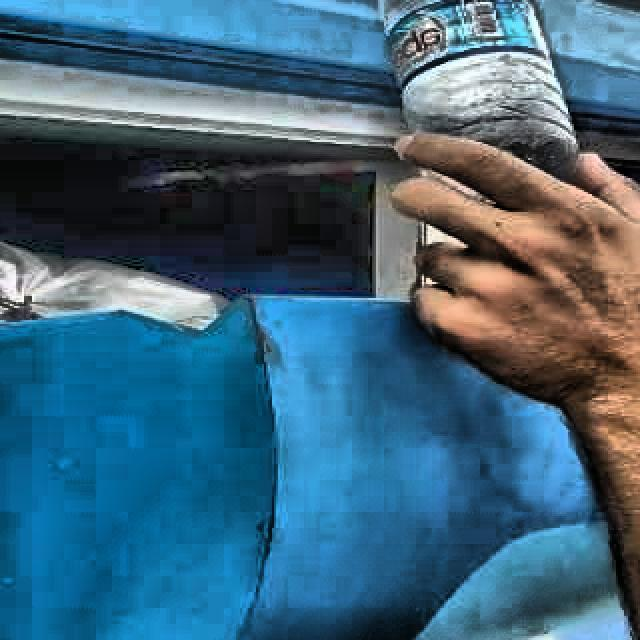plastic: (381, 0, 579, 179)
